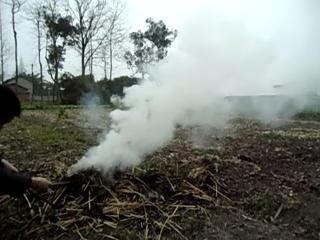yanwu: (69, 25, 271, 174)
